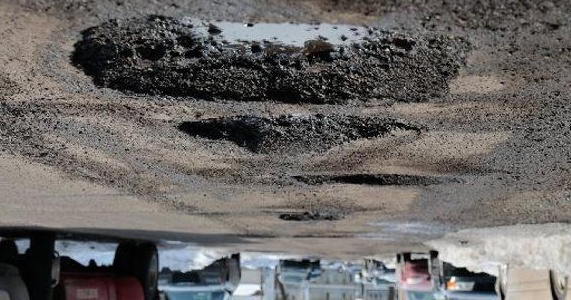pothole: (65, 14, 473, 108), (174, 111, 426, 158), (291, 173, 465, 189), (278, 211, 340, 225)
